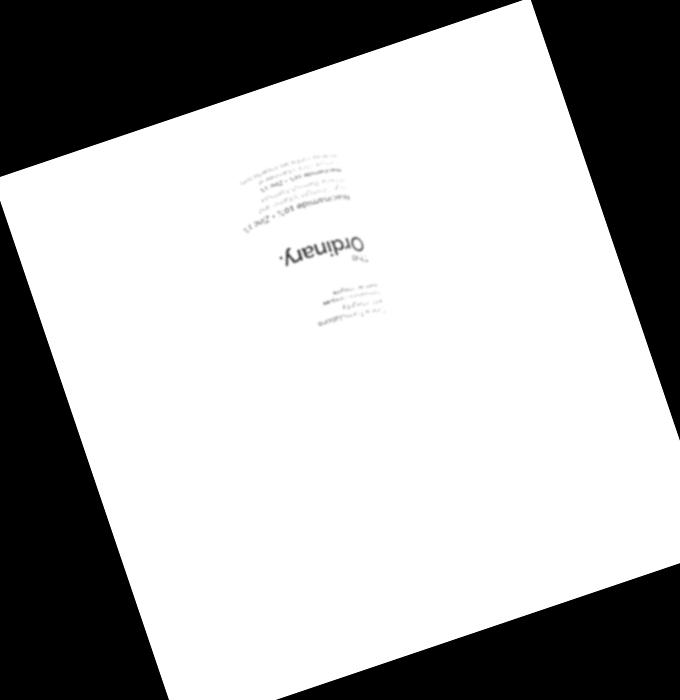cosmetic: (180, 97, 496, 627)
